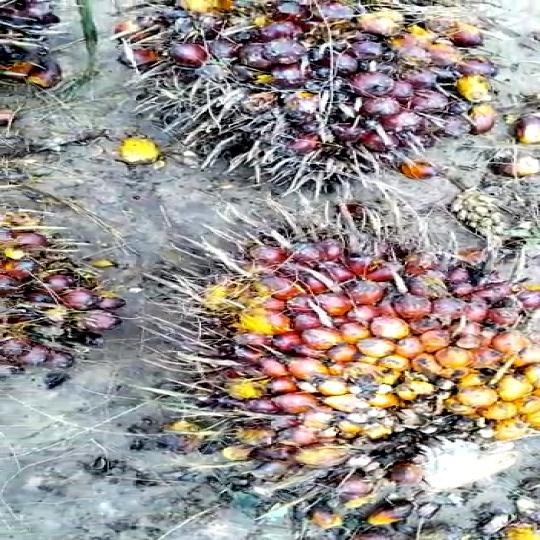masak: (191, 212, 540, 484), (105, 0, 482, 207)
